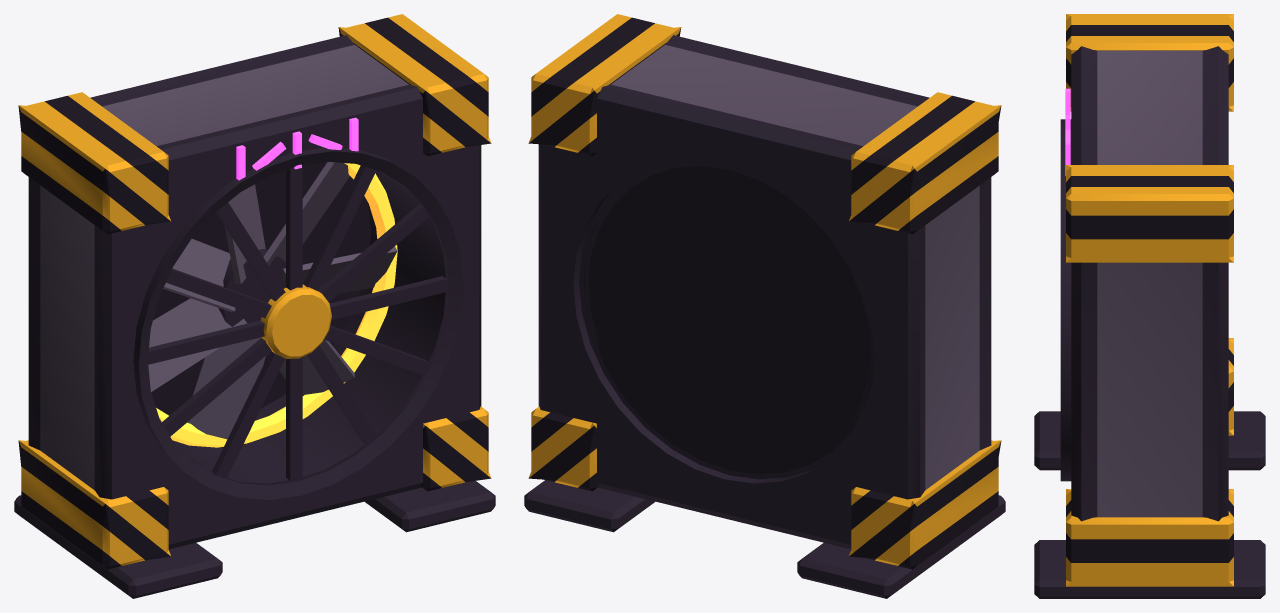
Rendered from vent__lower.glb.
3 renders of one model, left to right at view 1: azimuth 30°, elevation 25°; view 2: azimuth 150°, elevation 25°; view 3: azimuth 270°, elevation 25°, orthographic. The views are drawn at different scales.
Visible parts, largest first — view 1: Body, Fan; view 2: Body; view 3: Body.
Boxes of the visible parts, left/top/right/bottom form: Body: left=14, top=14, right=495, bottom=598; Fan: left=148, top=162, right=397, bottom=439; Body: left=524, top=14, right=1005, bottom=598; Body: left=1034, top=14, right=1265, bottom=598.
Bounding box in the file's own units: 0.82 × 0.86 × 0.44.
